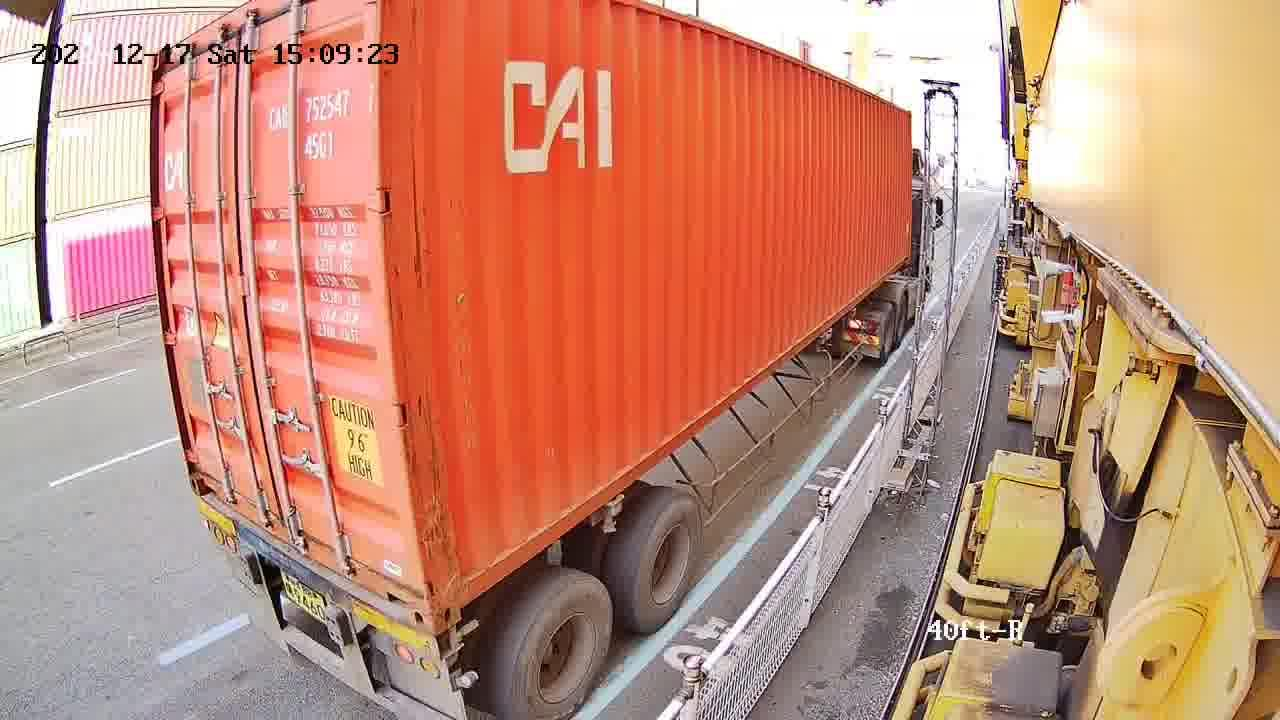Chassis: (196, 496, 439, 656)
Cone: (438, 619, 469, 656)
Hole_L: (427, 550, 480, 632), (184, 449, 218, 513)
Hole_R: (377, 567, 438, 633)
Tire: (514, 582, 614, 719), (629, 497, 703, 624)
